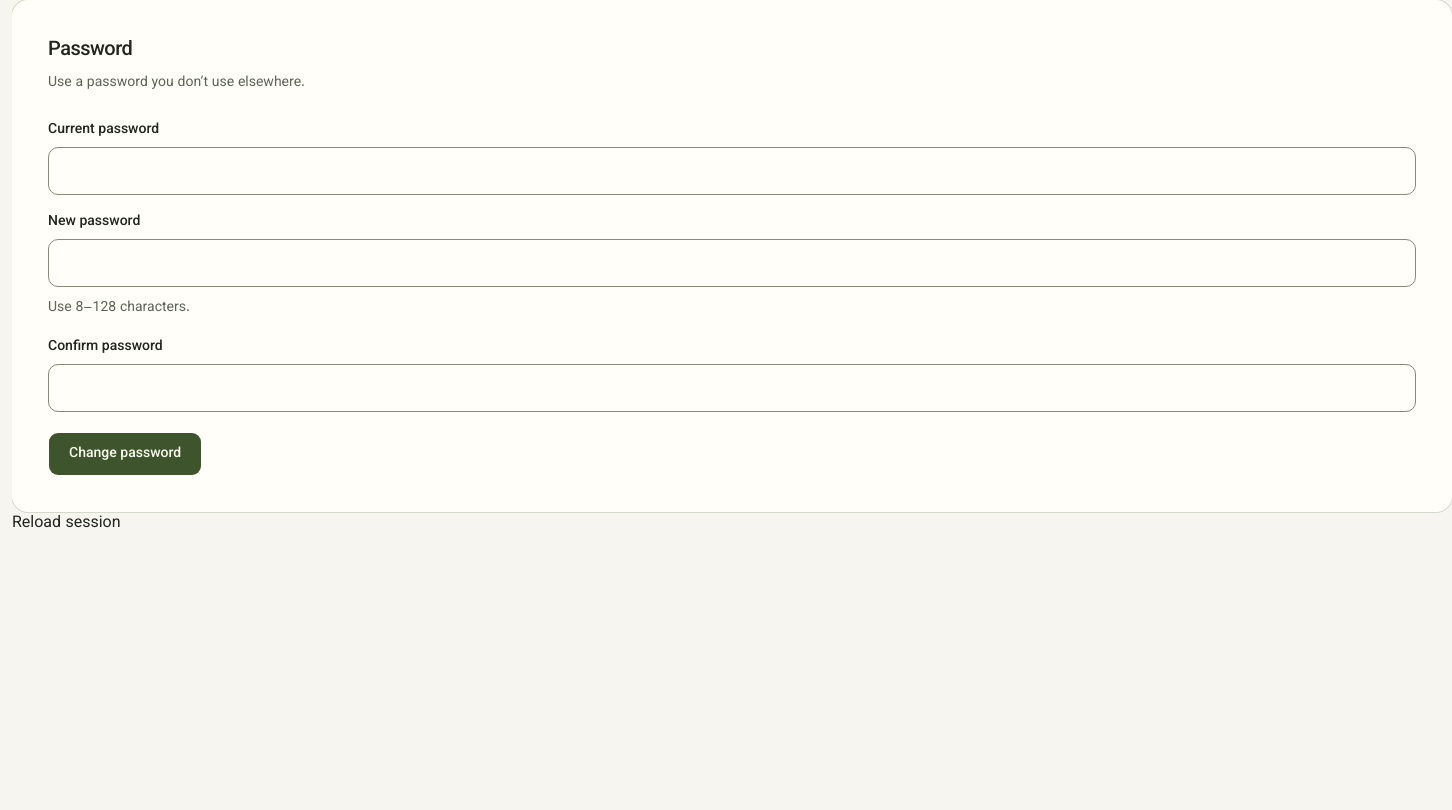
Test case: password change ownership › rejects a mismatched confirmation without sending a request
Type "  current value  " into the password field labelled "Current password". click: (732, 171)
box: [48,147,1416,195]
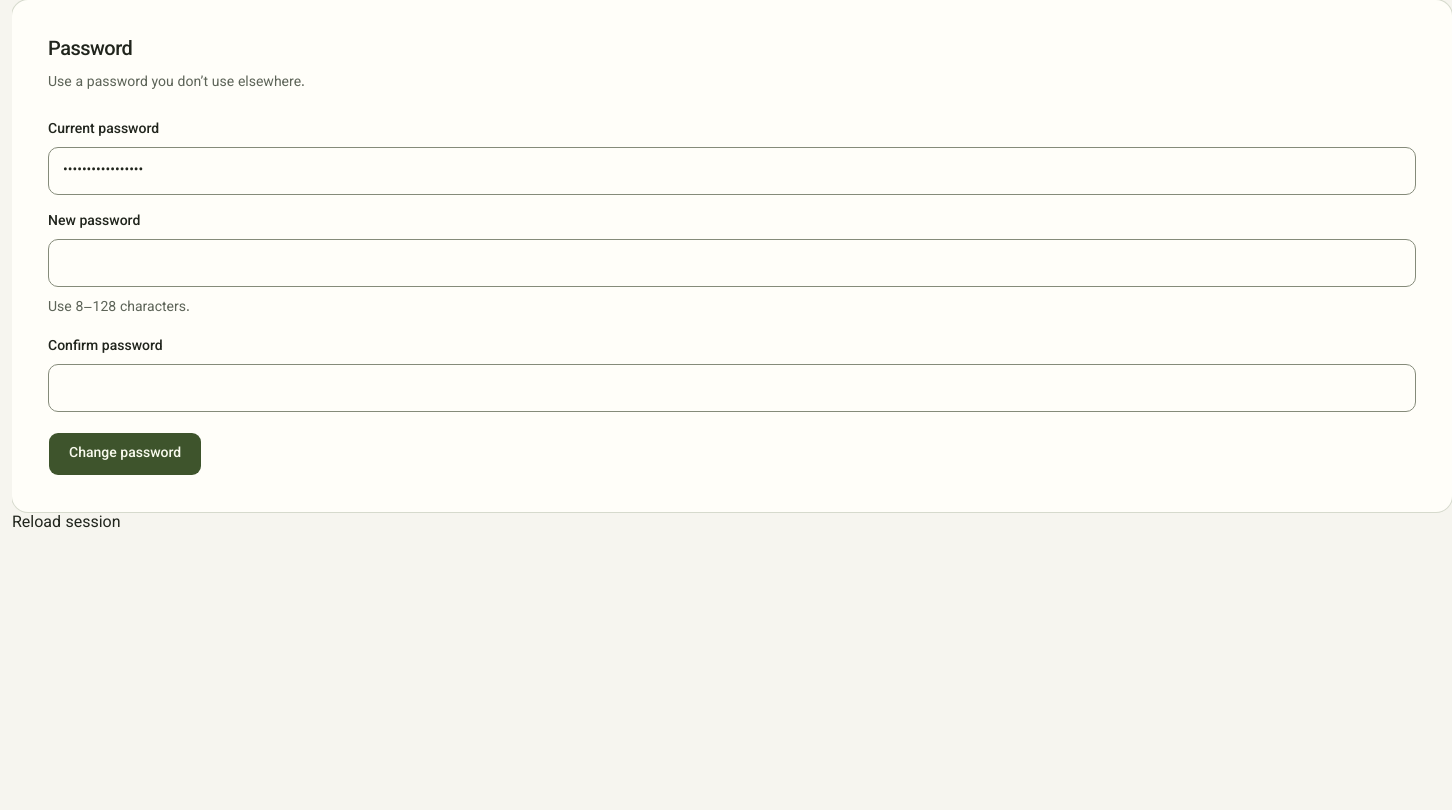
Type "first password" into the password field labelled "New password". click: (732, 263)
box: [48,239,1416,287]
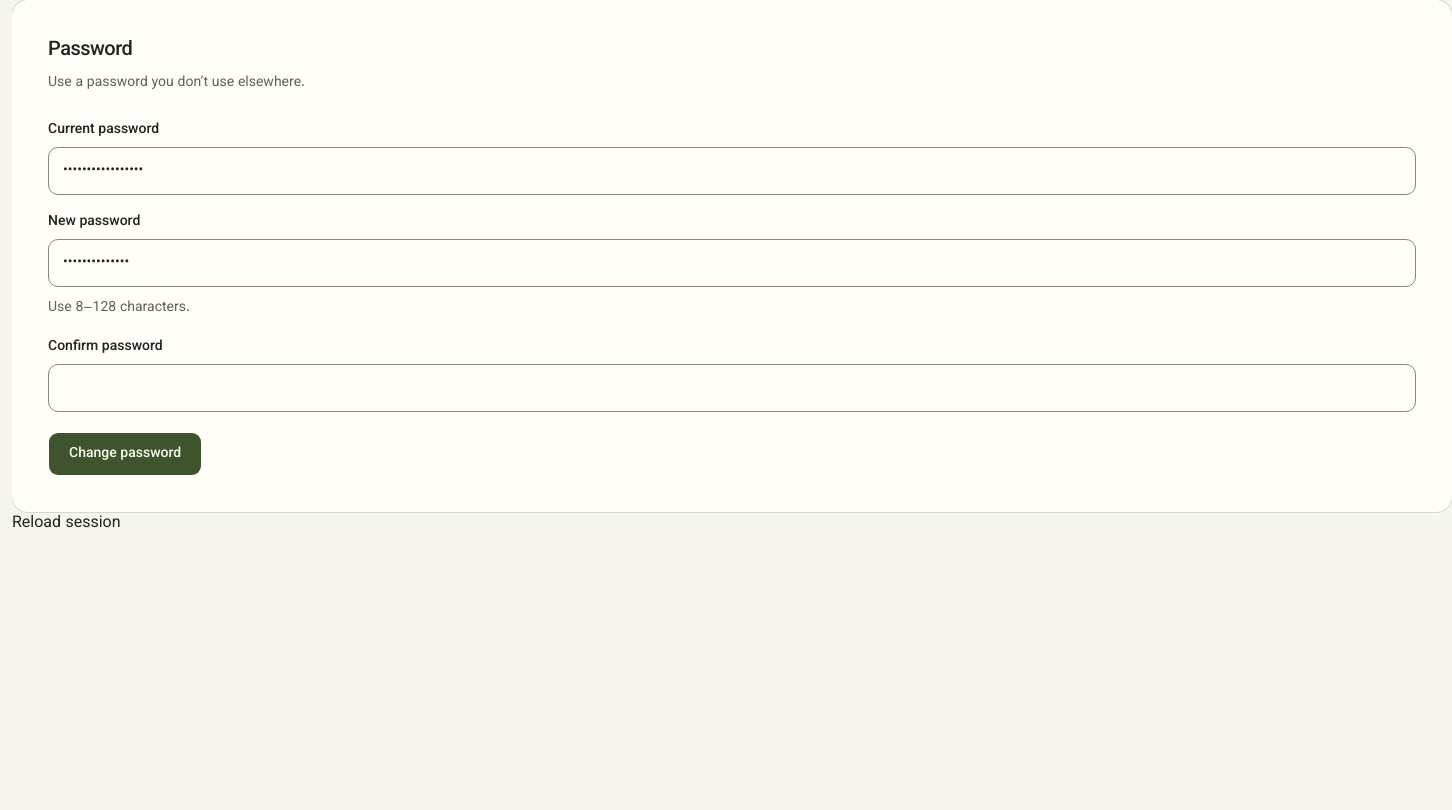
Type "other password" into the password field labelled "Confirm password". click: (732, 388)
box: [48,364,1416,412]
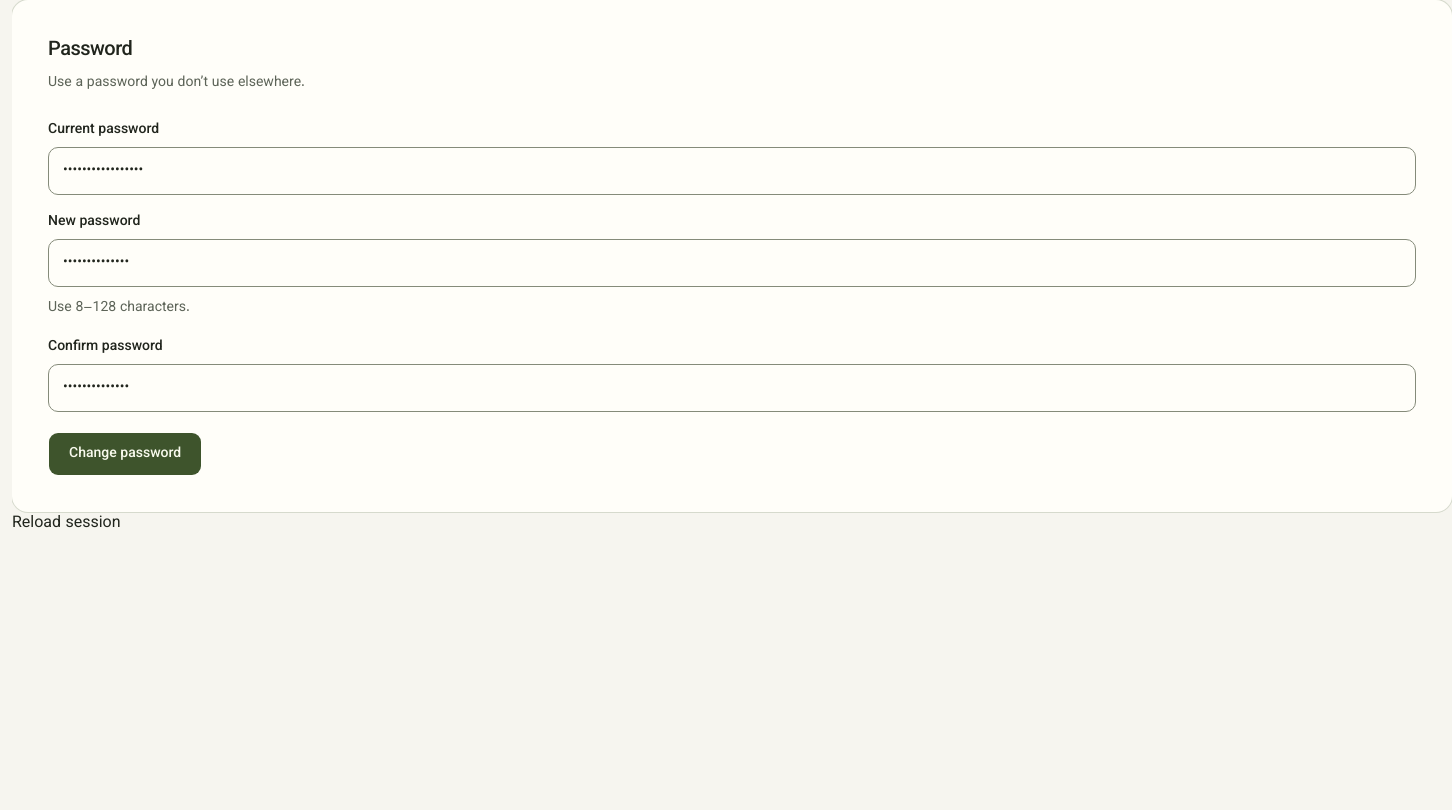
Click the button "Change password". click: (125, 454)
box: [48,432,202,476]
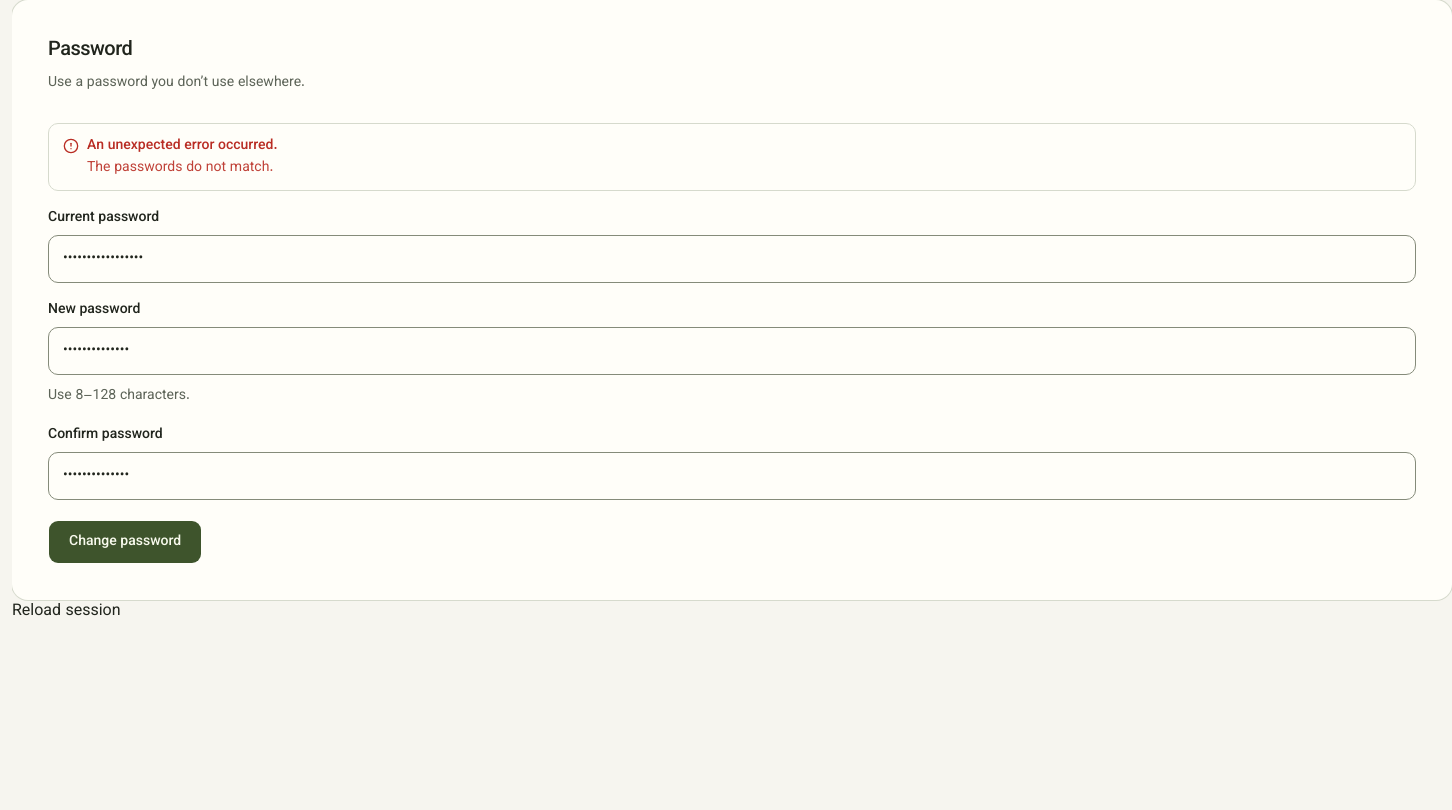
Now the message shows "match", box [87,157,273,179]
